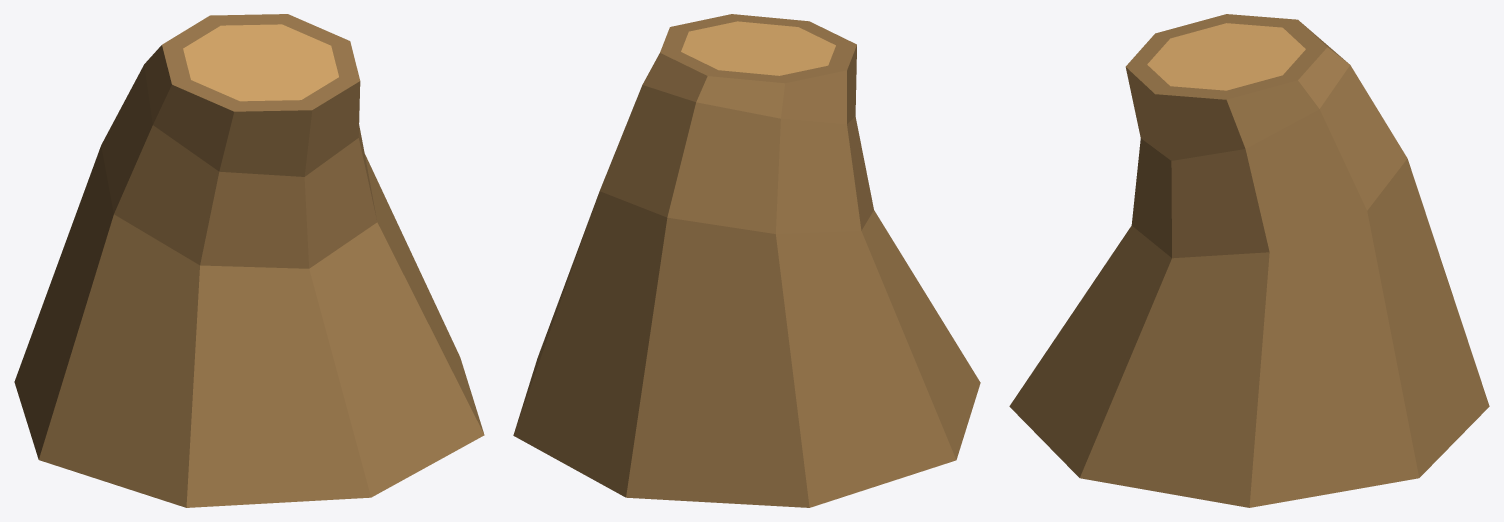
File: treestump 3.fbx
3 views of the same model, side by side, from view 1: azimuth 30°, elevation 25°; view 2: azimuth 150°, elevation 25°; view 3: azimuth 270°, elevation 25° (orthographic).
Parts seen in each view (by area): view 1: pCylinder1; view 2: pCylinder1; view 3: pCylinder1.
Boxes of the visible parts, bbox=[...] form: pCylinder1: bbox=[14, 14, 484, 507]; pCylinder1: bbox=[513, 14, 980, 507]; pCylinder1: bbox=[1009, 14, 1489, 507].
Bounding box in the file's own units: 3.36 × 2.78 × 3.36.
